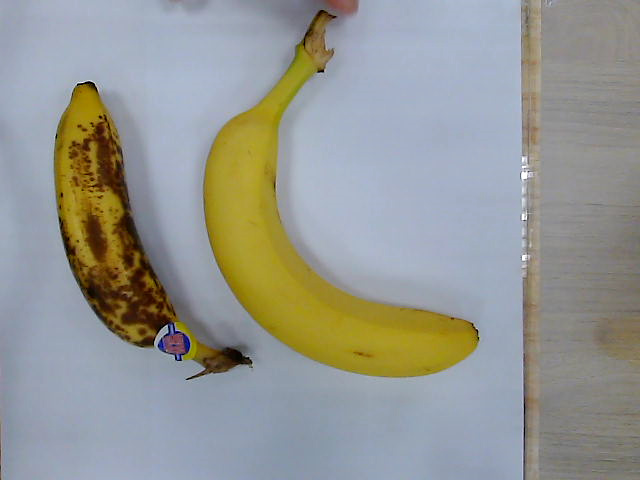fresh_banana: (203, 9, 480, 379)
rotten_banana: (53, 79, 249, 374)
